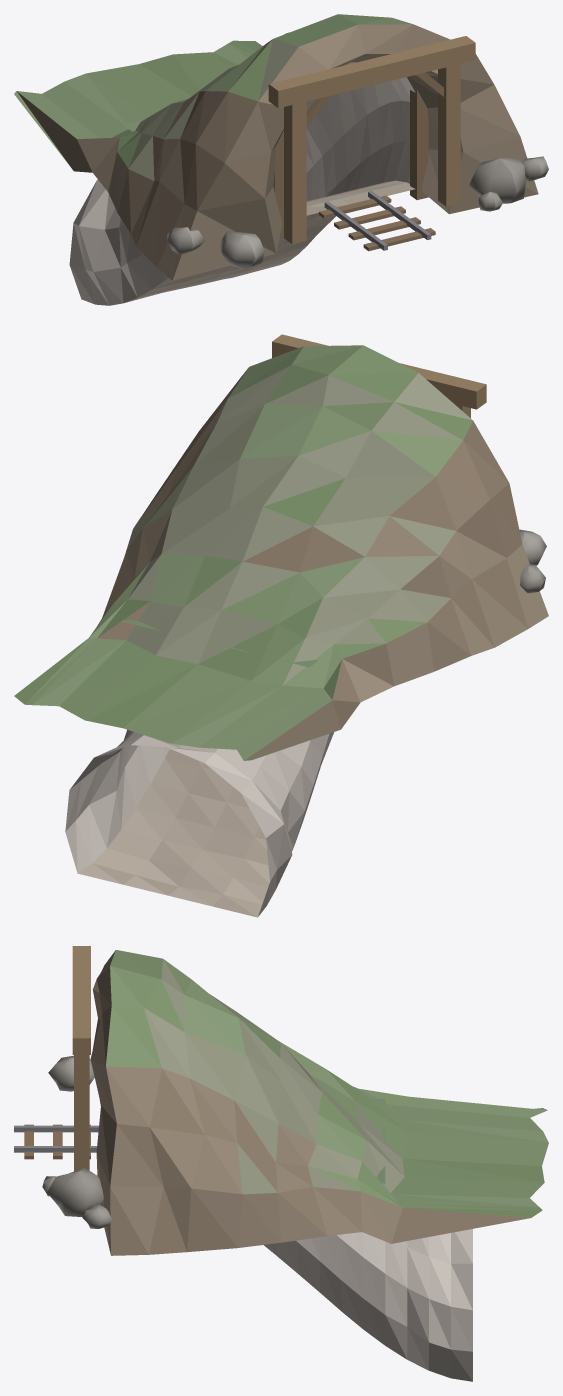
The model's file is cave-mouth-mine.glb.
3 views of the same model, one above another, from view 1: azimuth 30°, elevation 25°; view 2: azimuth 150°, elevation 25°; view 3: azimuth 270°, elevation 25° (orthographic). The views are drawn at different scales.
Parts seen in each view (by area): view 1: cave-mouth-mine; view 2: cave-mouth-mine; view 3: cave-mouth-mine.
Boxes of the visible parts, box(x1,y1,x2,y2) form: cave-mouth-mine: box(14, 14, 548, 305); cave-mouth-mine: box(14, 334, 548, 917); cave-mouth-mine: box(14, 946, 548, 1381).
Bounding box in the file's own units: 9.23 × 9.48 × 12.24.
